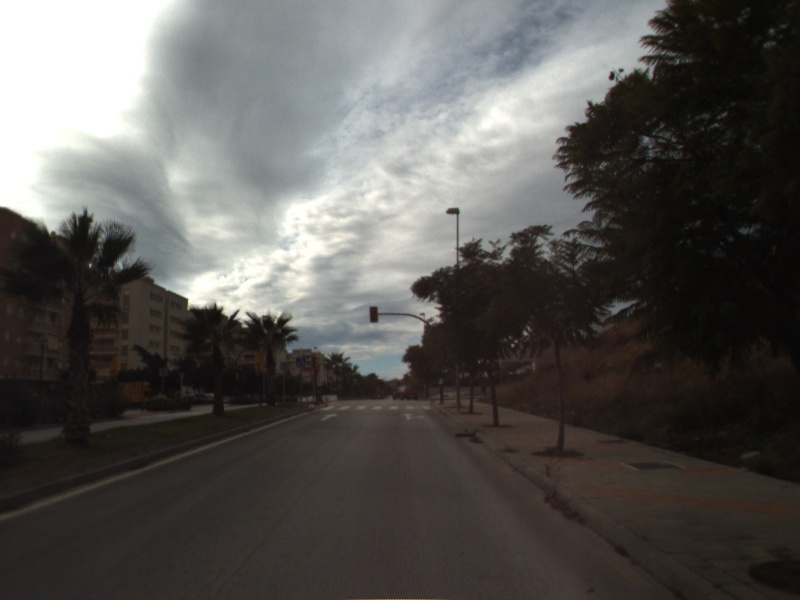STRAIGHT: (319, 411, 340, 423)
STRAIGHT_RIGHT: (399, 410, 427, 422)
